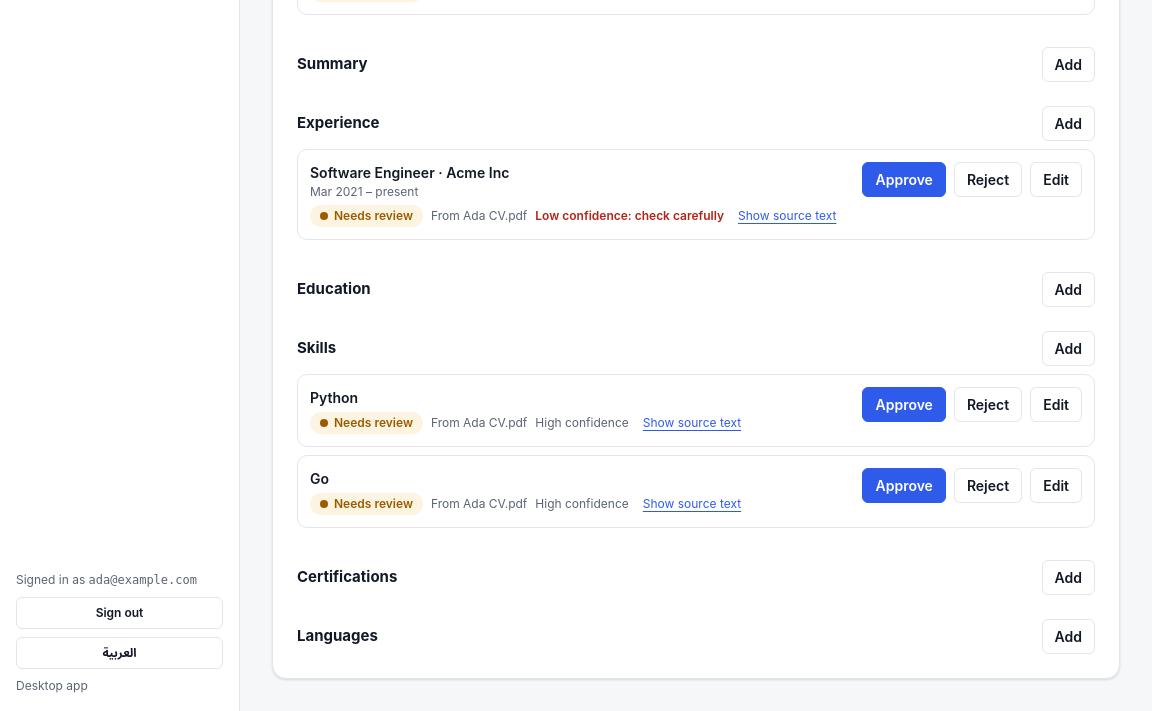
it: career profile: review › renders the review in Arabic
(page scrolled)
expect the element with test id "signed-in-user" is shown: met, box [16, 571, 223, 589]
expect the element with test id "section-skill" is shown: met, box [297, 331, 1095, 536]
Click the button with test id "locale-toggle" at (120, 653), box [16, 637, 223, 669]
(page scrolled)
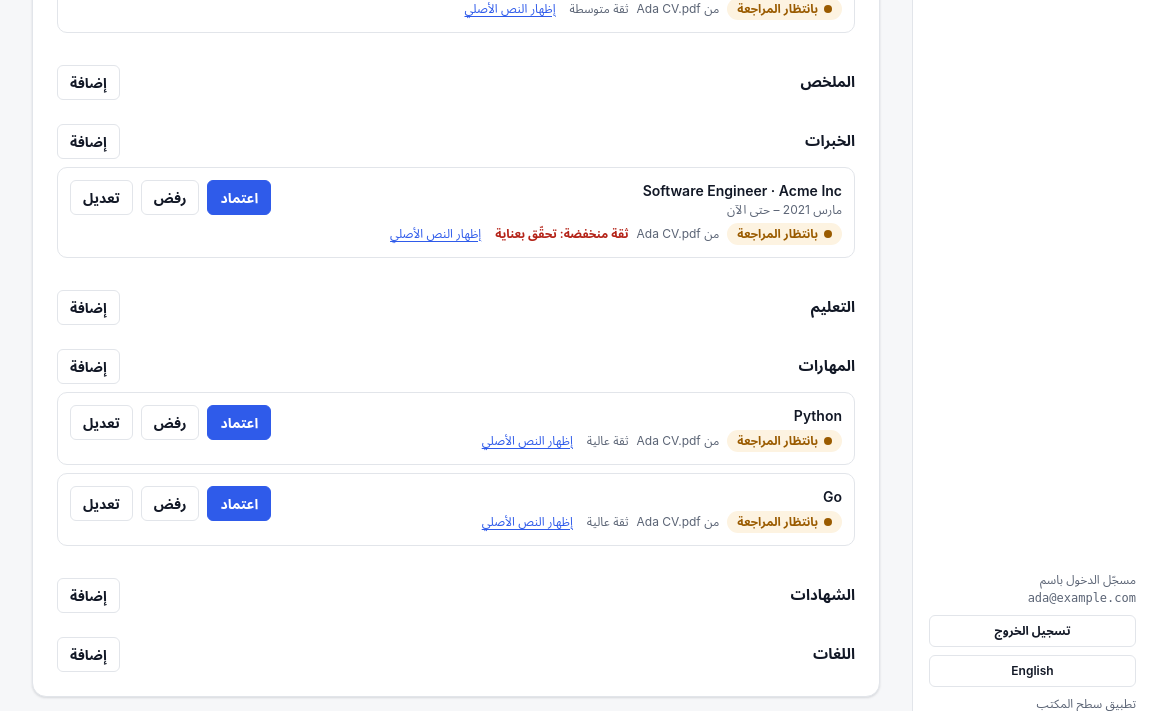
expect the heading "المهارات" is shown: met, box [798, 355, 855, 378]
expect the text "مارس 2021 – حتى الآن" is shown: met, box [727, 202, 842, 217]
